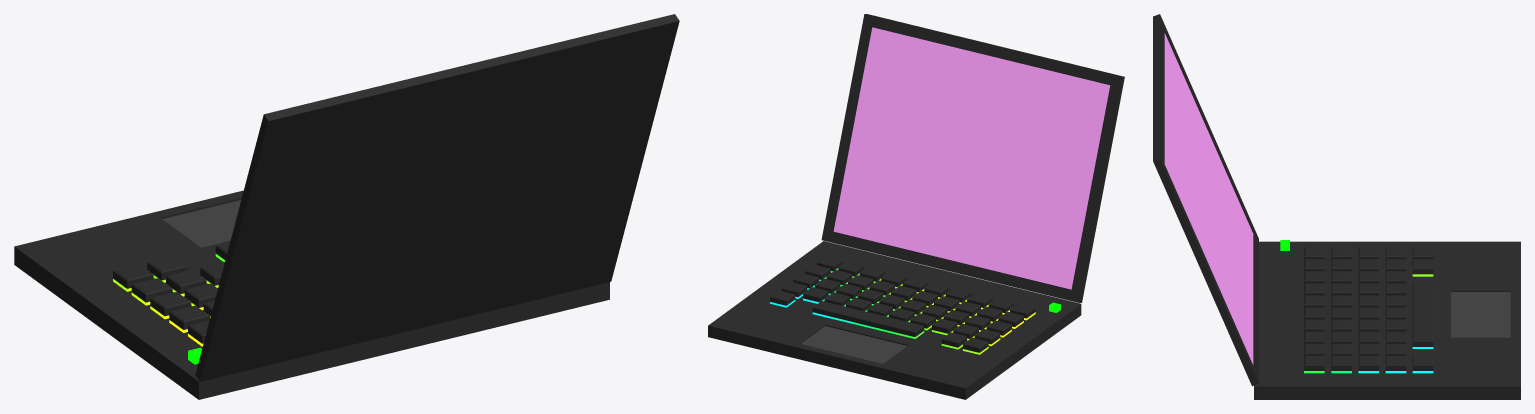
The model's file is Laptop.glb.
The picture shows the model from 3 angles, left to right: view 1: azimuth 30°, elevation 25°; view 2: azimuth 150°, elevation 25°; view 3: azimuth 270°, elevation 25°; orthographic projection. The views are drawn at different scales.
Parts seen in each view (by area): view 1: Laptop; view 2: Laptop; view 3: Laptop.
Part boxes in pixels (bbox=[...]): Laptop: bbox=[14, 14, 679, 399]; Laptop: bbox=[708, 14, 1124, 399]; Laptop: bbox=[1153, 14, 1520, 399].
Size of the model in its own units: 0.8183 by 0.6337 by 0.8766.
Materials: 1 (1 with a texture image).
